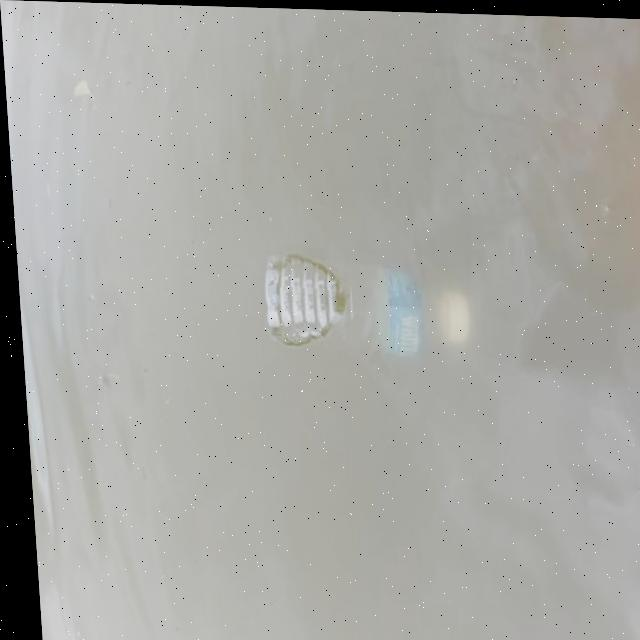waterbottle: (252, 233, 512, 390)
